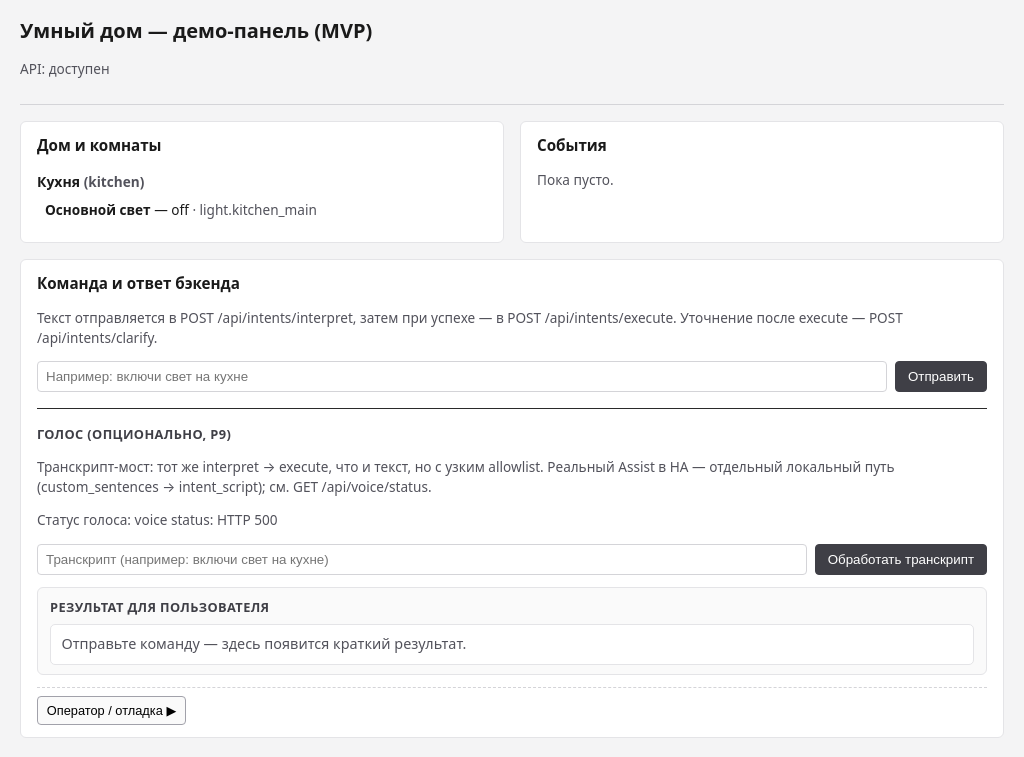
Scenario: App P6a › submits text: interpret success then execute success
Expected: the element with test id "house-state" is shown, [37, 172, 317, 219]
Type "включи свет на кухне" into the field with test id "command-input" at (462, 377), box [37, 361, 887, 392]
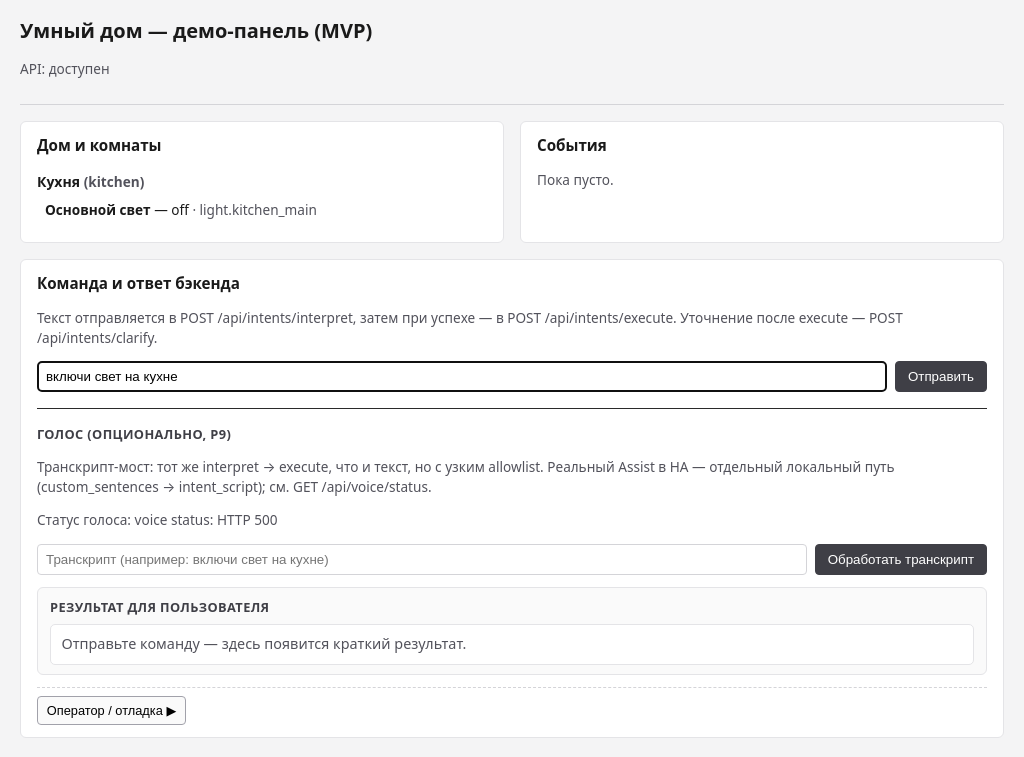
Click the button with test id "command-submit" at (941, 377), box [895, 361, 987, 392]
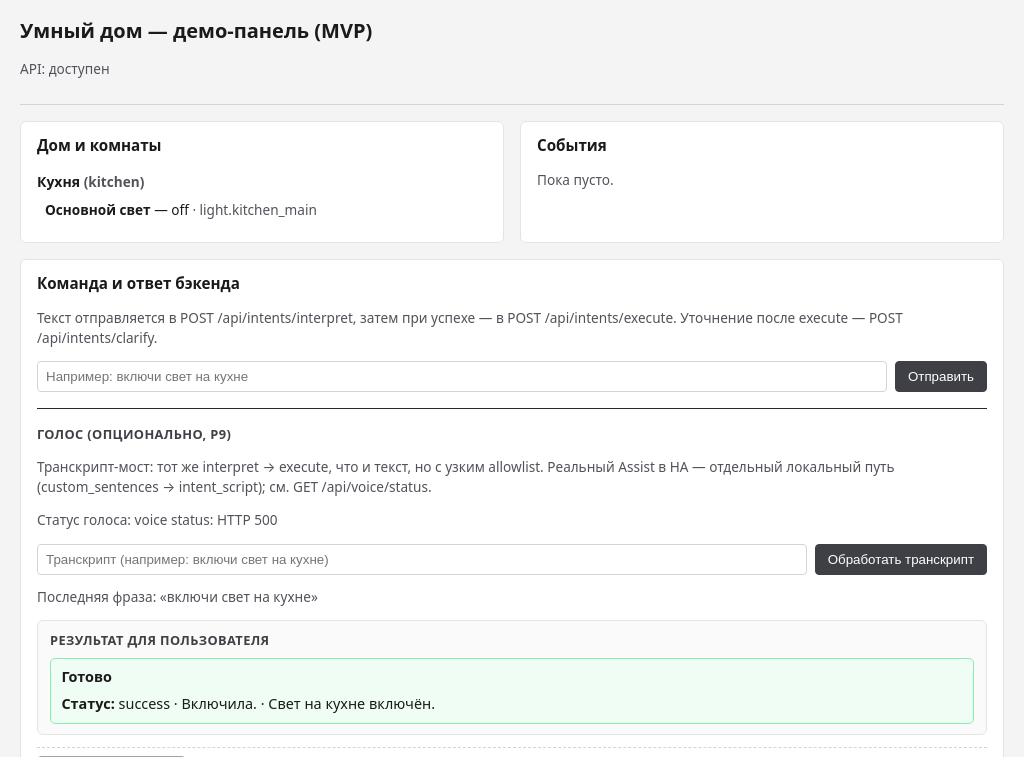
Now the text with test id "execute-status" reads "success", box [119, 694, 170, 713]
Now the text with test id "execute-ui-message" reads "Свет на кухне включён.", box [268, 694, 435, 713]
